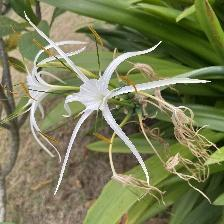spider lily: (60, 64, 147, 133), (18, 51, 79, 133)
